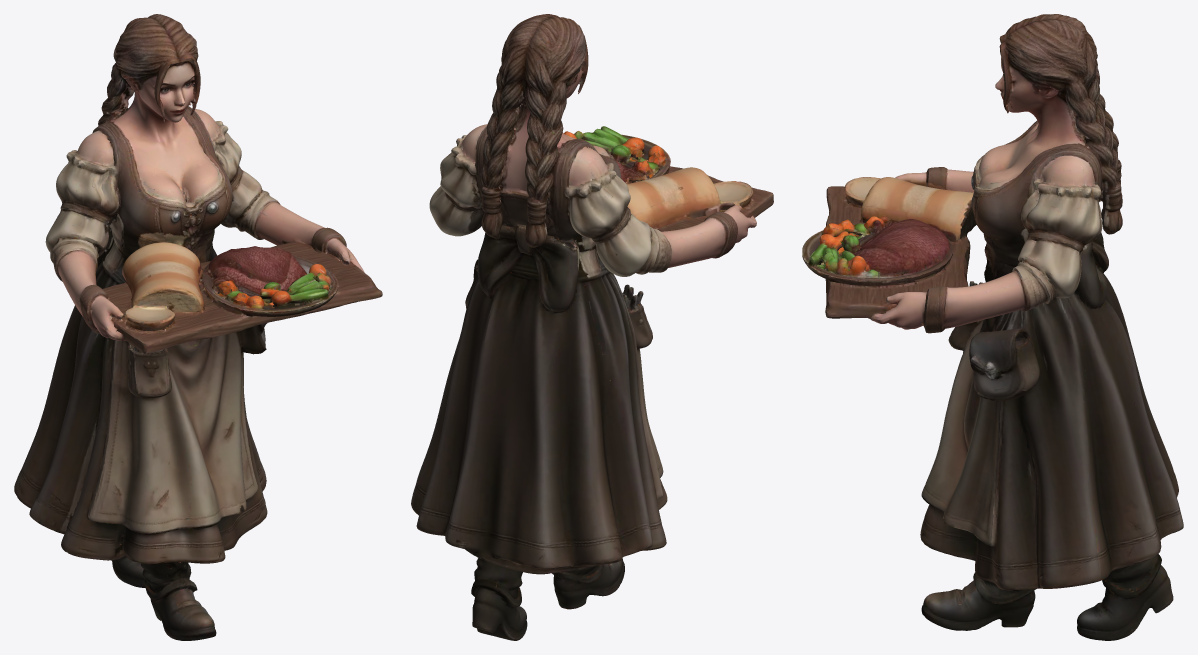
Rendered from waitress1.glb.
3 renders of one model, left to right at view 1: azimuth 30°, elevation 25°; view 2: azimuth 150°, elevation 25°; view 3: azimuth 270°, elevation 25°, orthographic. The views are drawn at different scales.
Parts seen in each view (by area): view 1: output; view 2: output; view 3: output.
Boxes of the visible parts, x1,y1,x2,y2 form: output: (14, 14, 382, 640); output: (411, 14, 773, 640); output: (802, 14, 1183, 640).
Size of the model in its own units: 0.8963 by 1.91 by 1.08.
1 material, 1 textured.
